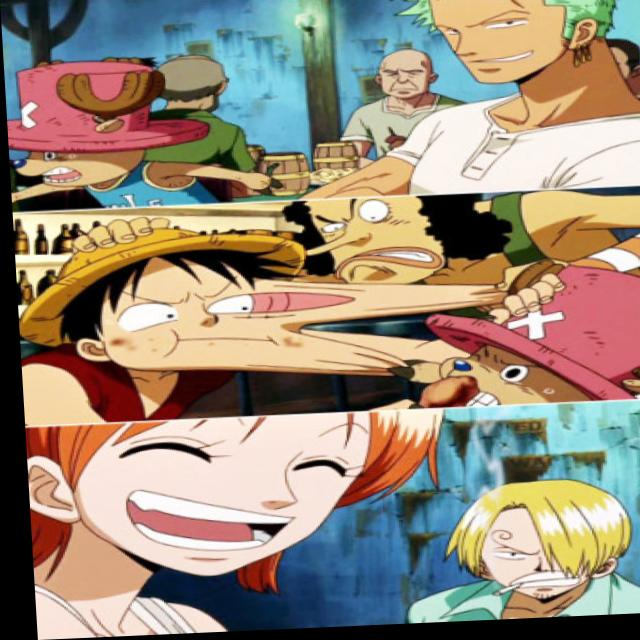Chyopa: (395, 262, 640, 415), (3, 48, 201, 213)
Luffy: (11, 217, 319, 421)
Nami: (20, 415, 419, 589)
Sangdi: (415, 479, 640, 618)
Usopp: (284, 195, 497, 286)
Zoro: (387, 0, 618, 93)
